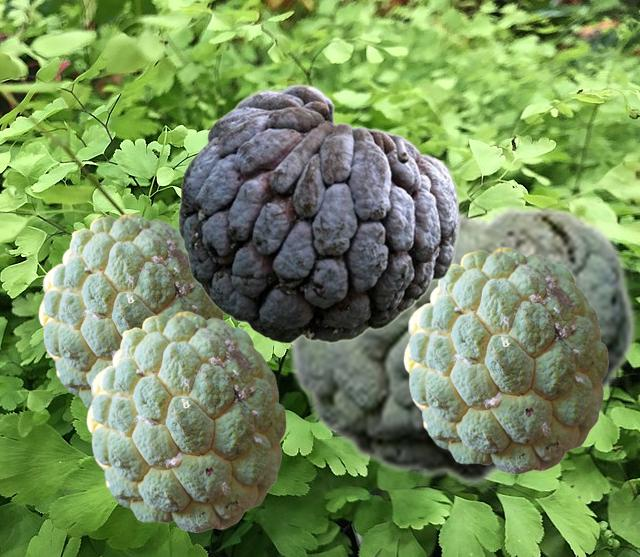atis: (286, 198, 636, 485), (178, 83, 459, 342), (403, 247, 607, 473), (86, 311, 285, 531), (38, 213, 222, 408)
